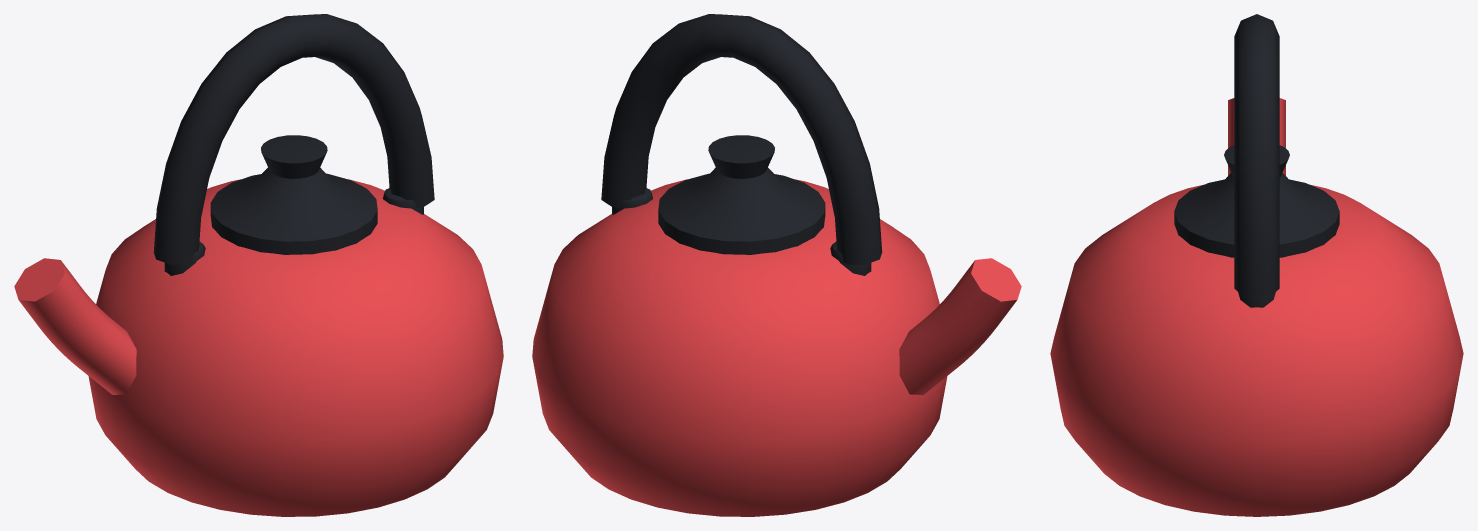
The model's file is chaleira_vermelha.glb.
3 views of the same model, side by side, from view 1: azimuth 30°, elevation 25°; view 2: azimuth 150°, elevation 25°; view 3: azimuth 270°, elevation 25° (orthographic).
Parts seen in each view (by area): view 1: chaleira_vermelha; view 2: chaleira_vermelha; view 3: chaleira_vermelha.
Part boxes in pixels (<box>): chaleira_vermelha: <box>14,14,503,516</box>; chaleira_vermelha: <box>532,14,1021,516</box>; chaleira_vermelha: <box>1050,14,1463,516</box>.
Bounding box in the file's own units: 0.2516 × 0.226 × 0.2.
1 material, 1 textured.
